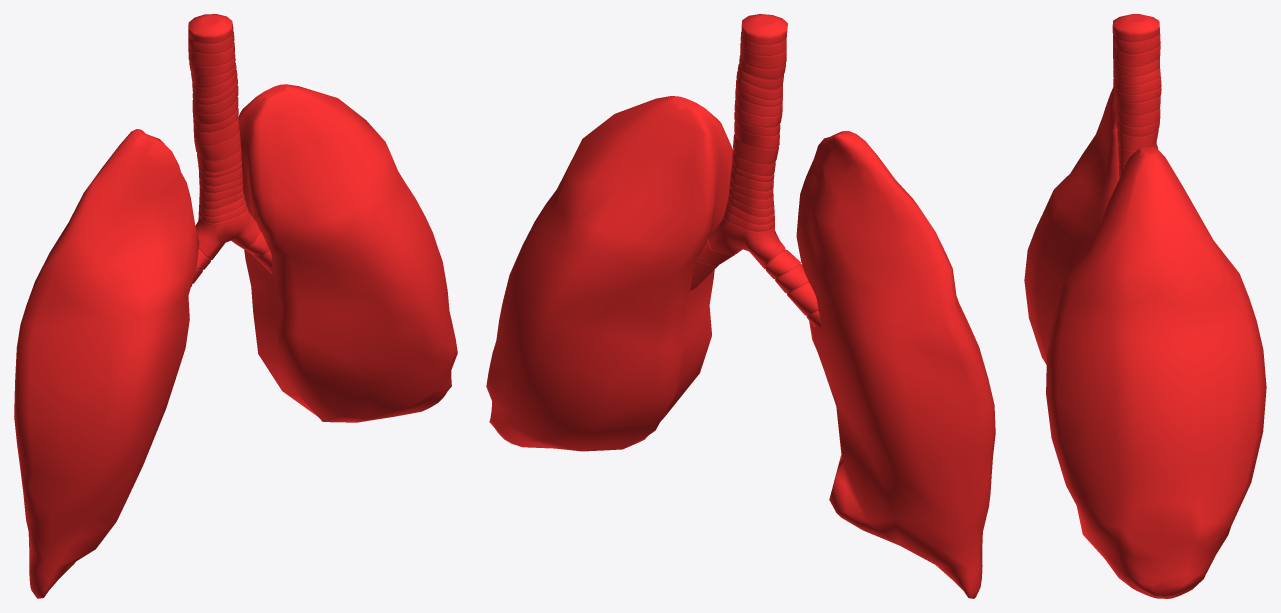
File: lungs.fbx
3 renders of one model, left to right at view 1: azimuth 30°, elevation 25°; view 2: azimuth 150°, elevation 25°; view 3: azimuth 270°, elevation 25°, orthographic. The views are drawn at different scales.
Visible parts, largest first — view 1: LungAnim; view 2: LungAnim; view 3: LungAnim.
Boxes of the visible parts, box(x1,y1,x2,y2) form: LungAnim: box(14, 14, 457, 598); LungAnim: box(486, 14, 995, 598); LungAnim: box(1024, 14, 1266, 598).
Size of the model in its own units: 4.41 by 4.92 by 1.98.
